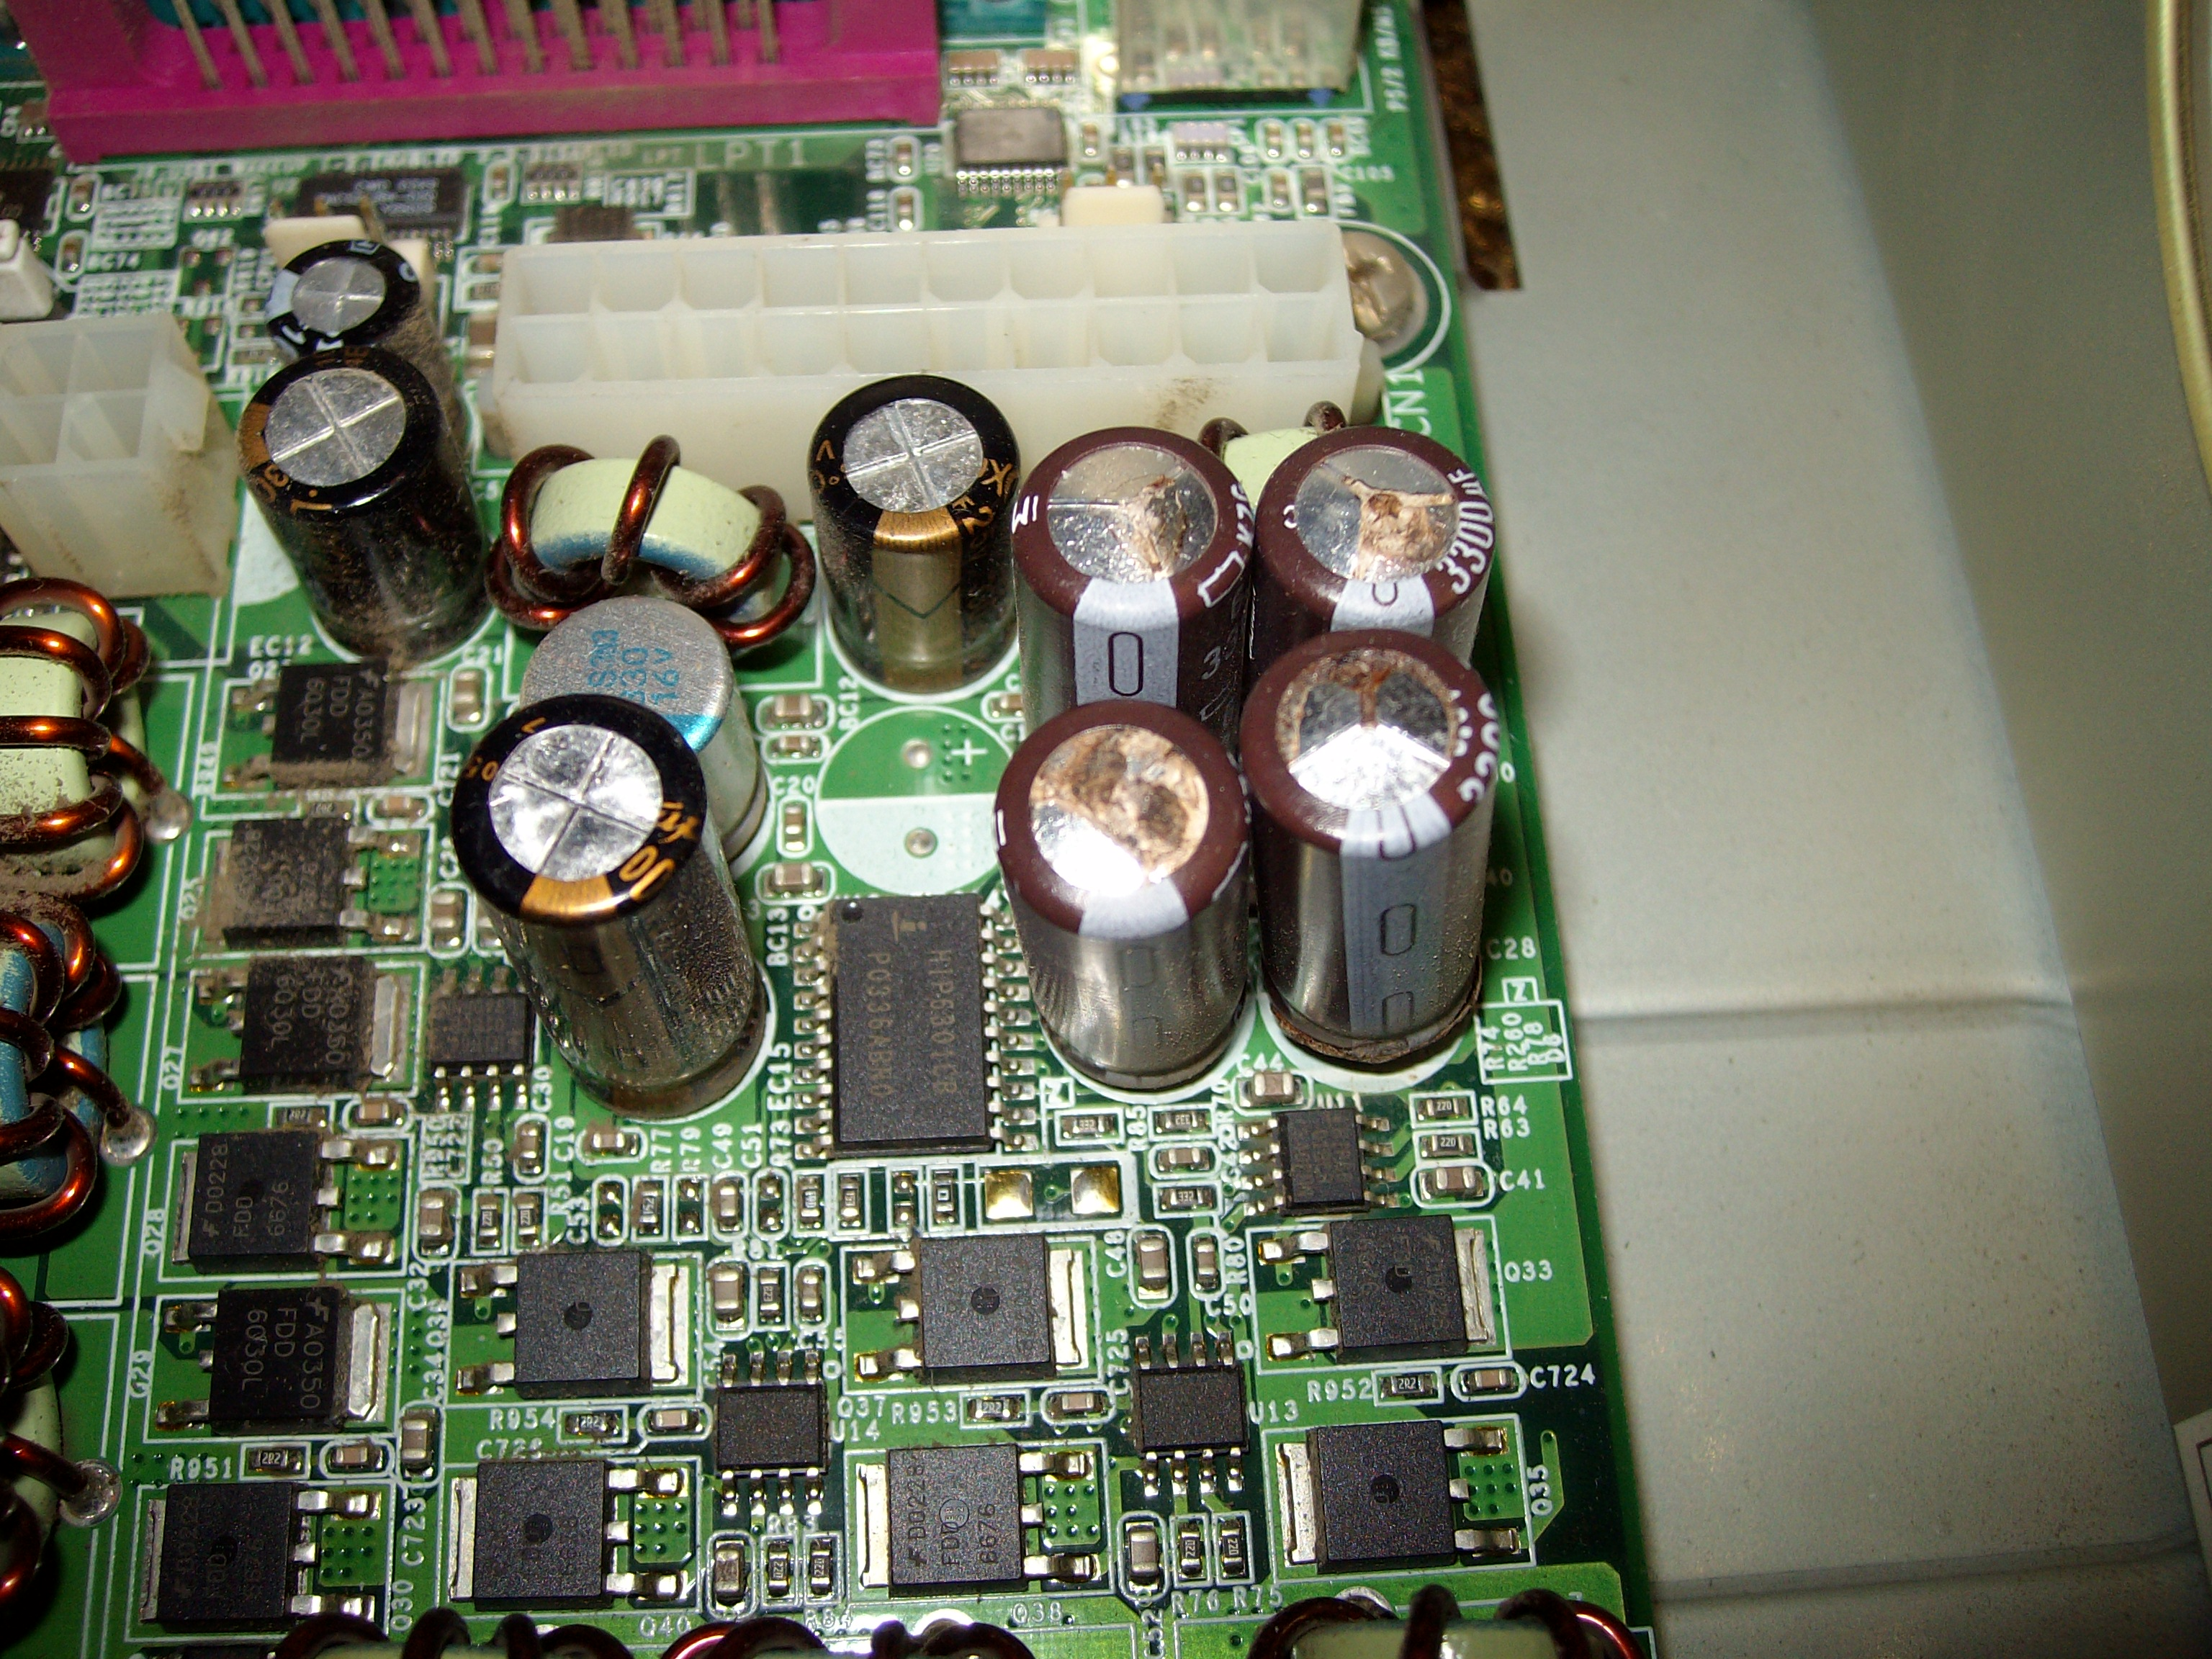capacitor: (437, 680, 780, 1166), (1231, 627, 1521, 1115), (965, 692, 1263, 1141), (806, 349, 1045, 739), (1238, 373, 1519, 683), (247, 345, 495, 671), (1021, 403, 1252, 697)
